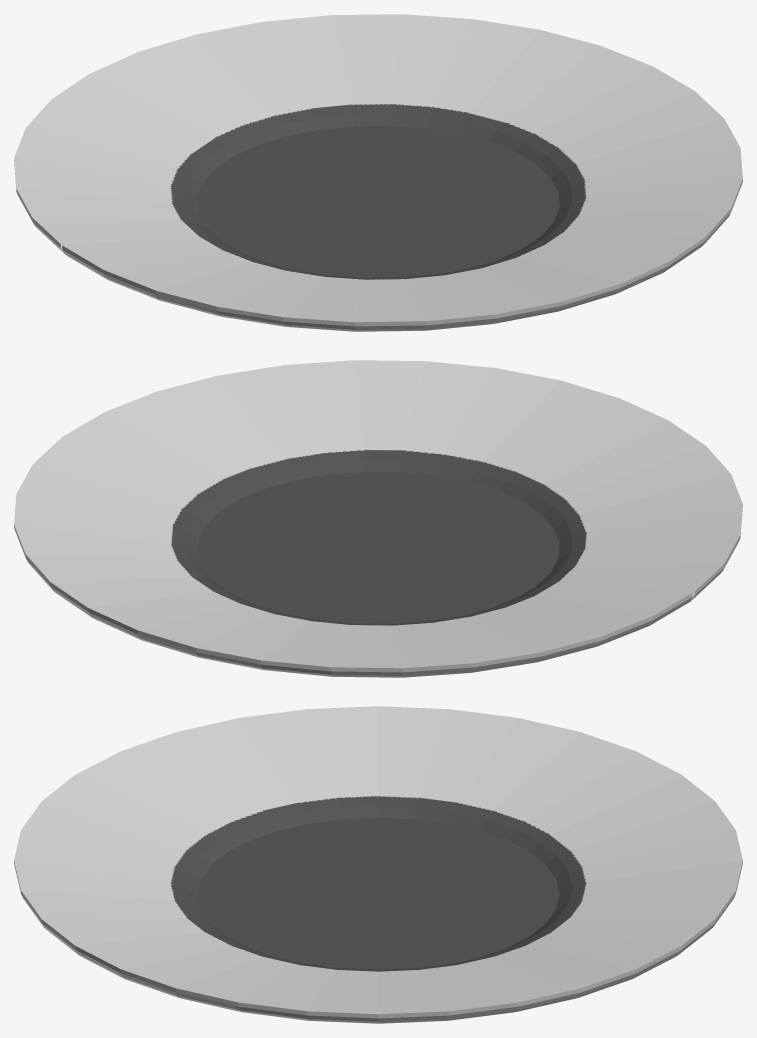
File: Plate.fbx
3 renders of one model, top to bottom at view 1: azimuth 30°, elevation 25°; view 2: azimuth 150°, elevation 25°; view 3: azimuth 270°, elevation 25°, orthographic.
Parts seen in each view (by area): view 1: Plate; view 2: Plate; view 3: Plate.
Part boxes in pixels (<box>): Plate: <box>14,14,742,331</box>; Plate: <box>14,360,742,677</box>; Plate: <box>14,706,742,1023</box>.
Size of the model in its own units: 339 by 24.99 by 339.
